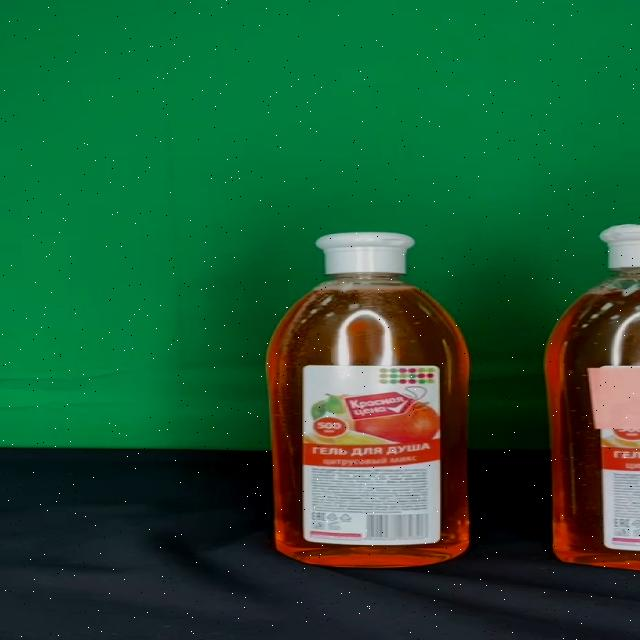Bottle: (264, 233, 472, 567)
Cap: (315, 233, 415, 275)
